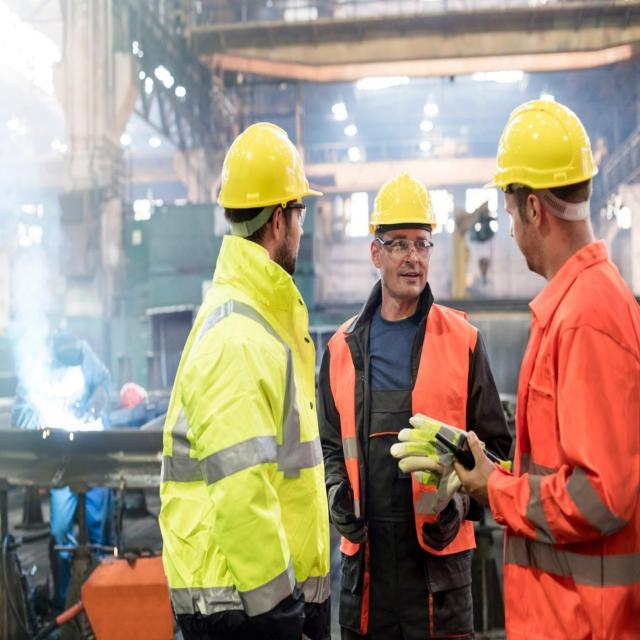Reflective-Jacket: (158, 262, 327, 622), (489, 253, 636, 638), (326, 292, 487, 559)
Safety-Helmet: (482, 94, 603, 199), (214, 117, 324, 215), (365, 166, 440, 233)
